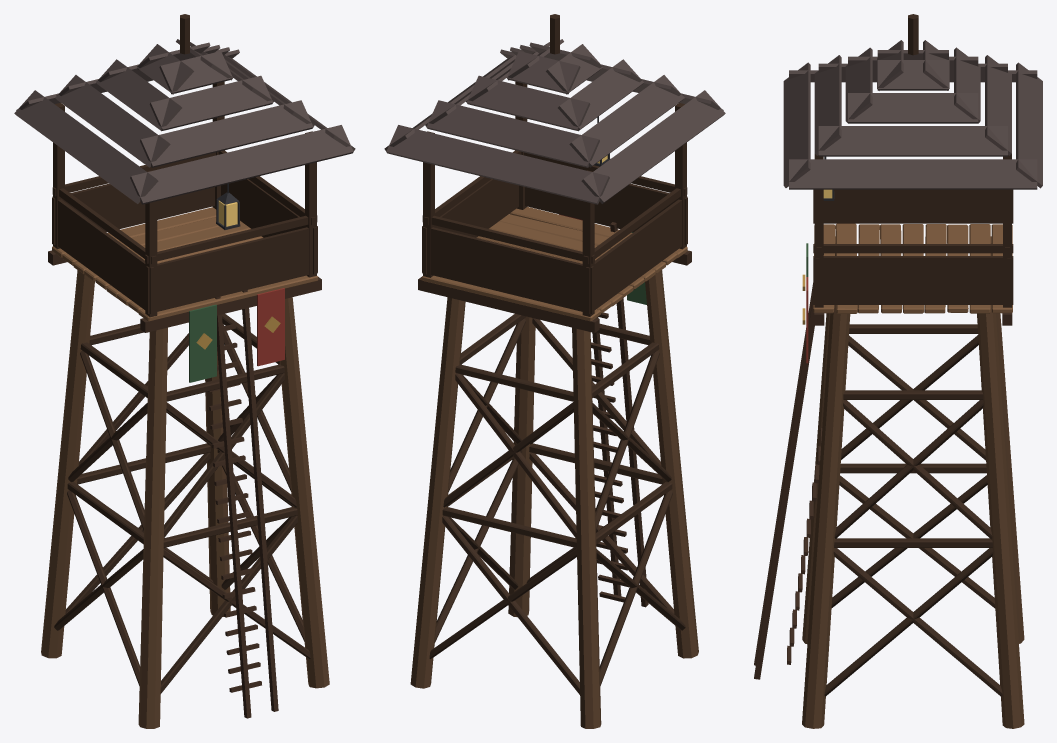
File: Watchtower_A.glb
3 views of the same model, side by side, from view 1: azimuth 30°, elevation 25°; view 2: azimuth 150°, elevation 25°; view 3: azimuth 270°, elevation 25° (orthographic). The views are drawn at different scales.
Visible parts, largest first — view 1: Roof__Shingle, Rail__Timber, Braces__Timber, Ladder__WoodDark, Stilt1__Log, Stilt3__Log, Stilt2__Log, Deck__Plank, Stilt4__Log, Banner1__ClothGreen, Banner2__Cloth, DeckBeams__WoodDark; view 2: Roof__Shingle, Rail__Timber, Braces__Timber, Stilt2__Log, Stilt4__Log, Stilt1__Log, Deck__Plank, Stilt3__Log, Ladder__WoodDark, DeckBeams__WoodDark; view 3: Roof__Shingle, Rail__Timber, Braces__Timber, Stilt3__Log, Stilt4__Log, Deck__Plank, Ladder__WoodDark, Stilt2__Log, Stilt1__Log.
Part boxes in pixels (x1,y1,x2,y2): Roof__Shingle: (14,39,355,204); Rail__Timber: (52,81,317,317); Braces__Timber: (54,313,310,693); Ladder__WoodDark: (208,290,278,718); Stilt1__Log: (138,327,167,728); Stilt3__Log: (279,297,329,688); Stilt2__Log: (41,270,94,658); Deck__Plank: (52,207,318,321); Stilt4__Log: (205,352,230,616); Banner1__ClothGreen: (189,304,216,382); Banner2__Cloth: (257,288,284,366); DeckBeams__WoodDark: (48,250,321,332); Roof__Shingle: (384,39,725,204); Rail__Timber: (422,81,687,316); Braces__Timber: (429,313,685,694); Stilt2__Log: (572,327,601,728); Stilt4__Log: (410,297,465,688); Stilt1__Log: (645,270,698,658); Deck__Plank: (421,207,687,321); Stilt3__Log: (508,316,535,617); Ladder__WoodDark: (591,222,648,607); DeckBeams__WoodDark: (418,250,691,332); Roof__Shingle: (783,40,1042,189); Rail__Timber: (813,154,1013,307); Braces__Timber: (824,324,1002,696); Stilt3__Log: (802,305,850,728); Stilt4__Log: (977,305,1024,728); Deck__Plank: (813,223,1012,313); Ladder__WoodDark: (754,253,823,679); Stilt2__Log: (990,236,1024,643); Stilt1__Log: (802,236,835,643).
Bounding box in the file's own units: 0.1294 × 0.3675 × 0.1442.
